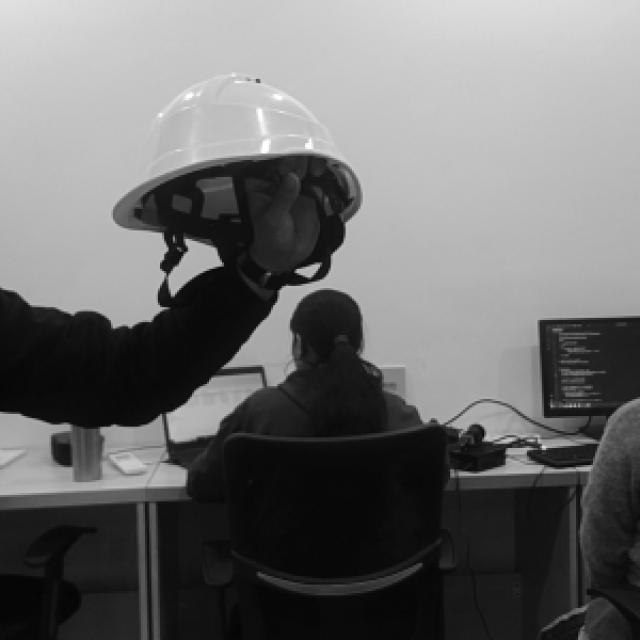safety_helmet: (113, 73, 363, 226)
